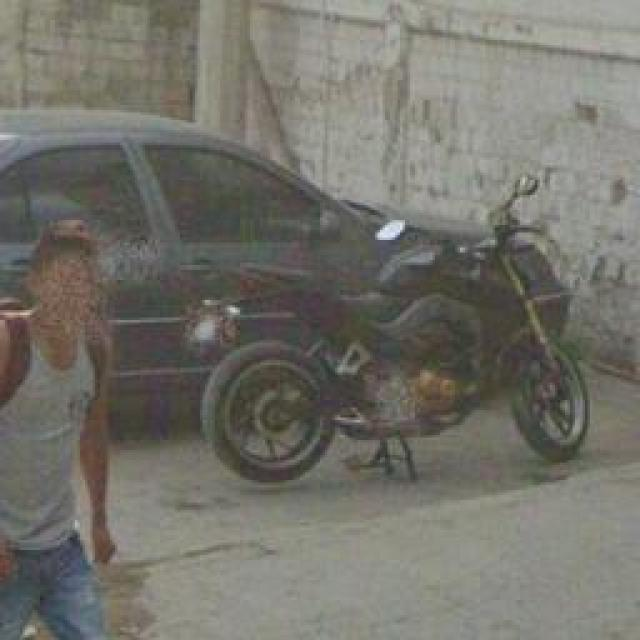Mobil: (2, 110, 420, 420)
Motor: (195, 175, 590, 488)
